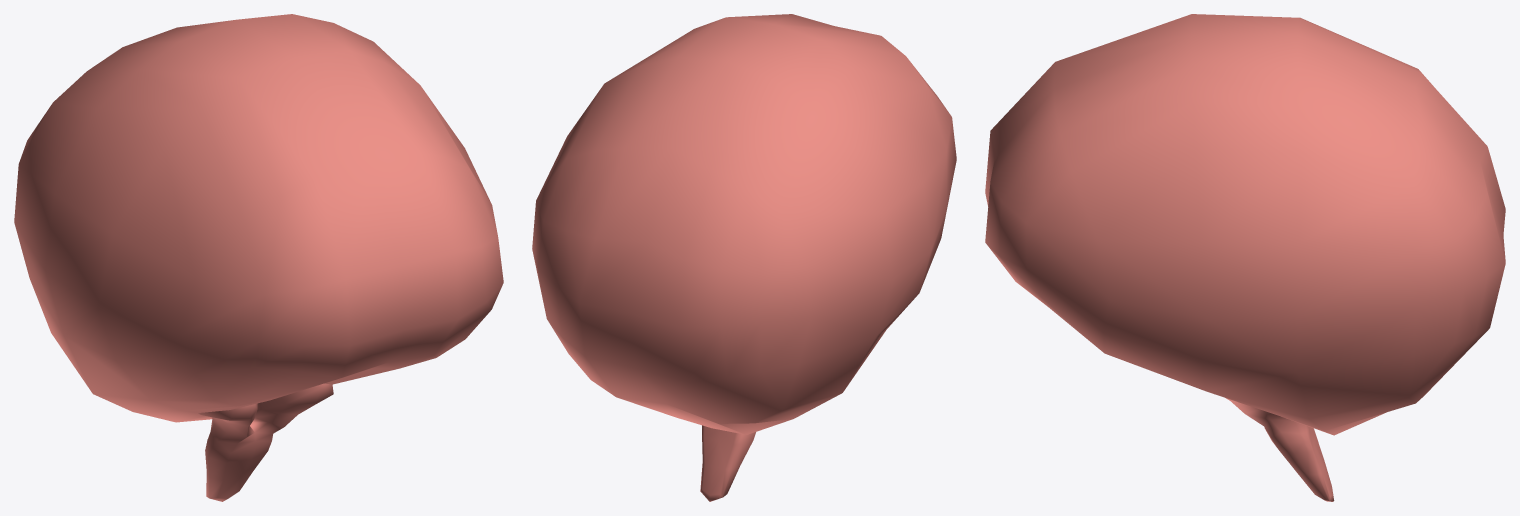
File: brainLowPolyUnity.fbx
The picture shows the model from 3 angles, left to right: view 1: azimuth 30°, elevation 25°; view 2: azimuth 150°, elevation 25°; view 3: azimuth 270°, elevation 25°; orthographic projection. The views are drawn at different scales.
Visible parts, largest first — view 1: BrainLowPoly; view 2: BrainLowPoly; view 3: BrainLowPoly.
Part boxes in pixels (x1=…): BrainLowPoly: x1=14, y1=14, x2=503, y2=501; BrainLowPoly: x1=532, y1=14, x2=956, y2=501; BrainLowPoly: x1=985, y1=14, x2=1505, y2=501.
Bounding box in the file's own units: 98.85 × 122 × 123.
